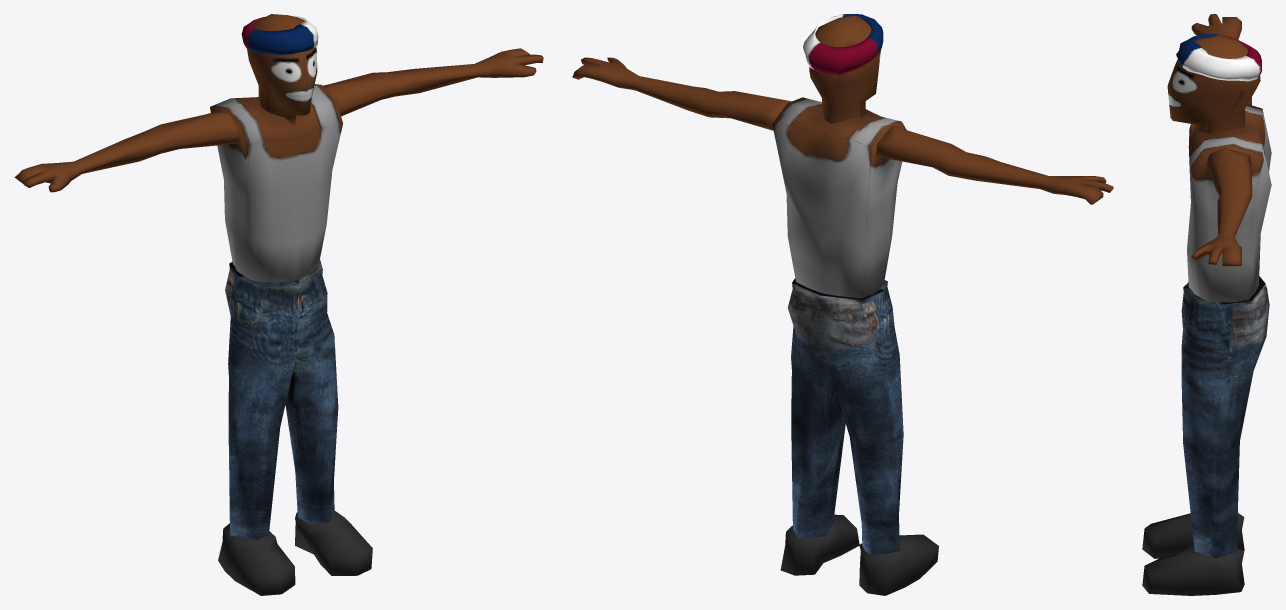
Rendered from randomguy.fbx.
3 renders of one model, left to right at view 1: azimuth 30°, elevation 25°; view 2: azimuth 150°, elevation 25°; view 3: azimuth 270°, elevation 25°, orthographic. The views are drawn at different scales.
Visible parts, largest first — view 1: Pants, Body, Arms, Shoes, Head; view 2: Pants, Body, Arms, Head, Shoes; view 3: Pants, Body, Head, Shoes, Arms.
Part boxes in pixels (x1,y1,x2,y2): Pants: [225, 260, 338, 539]; Body: [210, 84, 342, 282]; Arms: [14, 48, 543, 192]; Shoes: [218, 510, 372, 595]; Head: [241, 14, 318, 125]; Pants: [788, 278, 903, 555]; Body: [772, 97, 906, 298]; Arms: [572, 57, 1113, 204]; Head: [803, 14, 883, 123]; Shoes: [780, 514, 938, 595]; Pants: [1181, 276, 1269, 558]; Body: [1187, 104, 1271, 302]; Head: [1167, 34, 1261, 135]; Shoes: [1142, 513, 1244, 595]; Arms: [1191, 14, 1252, 266].
Size of the model in its own units: 344 by 343 by 76.02.
6 materials, 4 textured.
